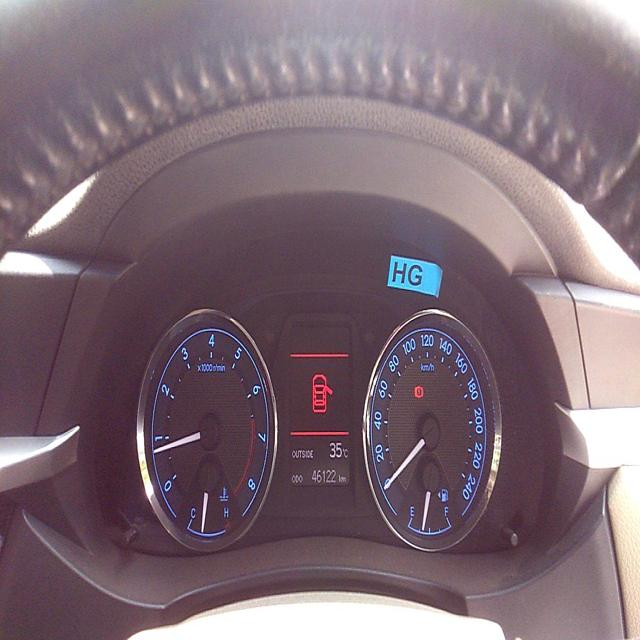odometer: (309, 468, 338, 486)
